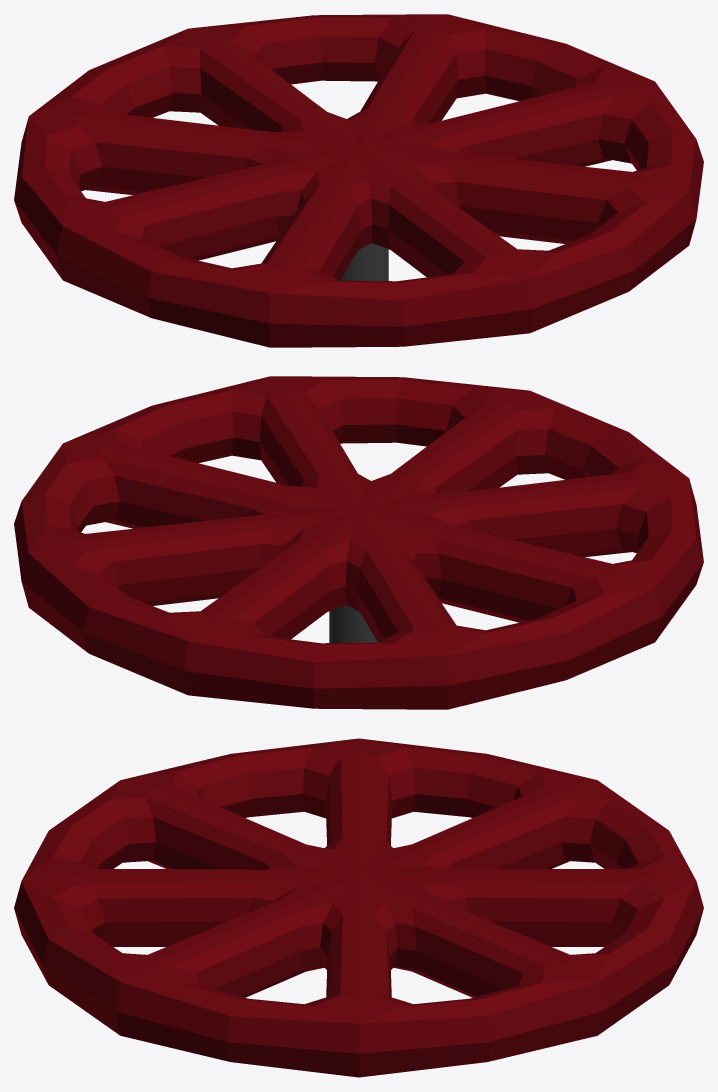
Rendered from Valve.fbx.
3 renders of one model, top to bottom at view 1: azimuth 30°, elevation 25°; view 2: azimuth 150°, elevation 25°; view 3: azimuth 270°, elevation 25°, orthographic.
Visible parts, largest first — view 1: Valve; view 2: Valve; view 3: Valve.
Part boxes in pixels (x1,y1,x2,y2): Valve: (14,14,703,347); Valve: (14,376,703,709); Valve: (14,738,703,1077).
Bounding box in the file's own units: 33.06 × 9.45 × 33.06.
